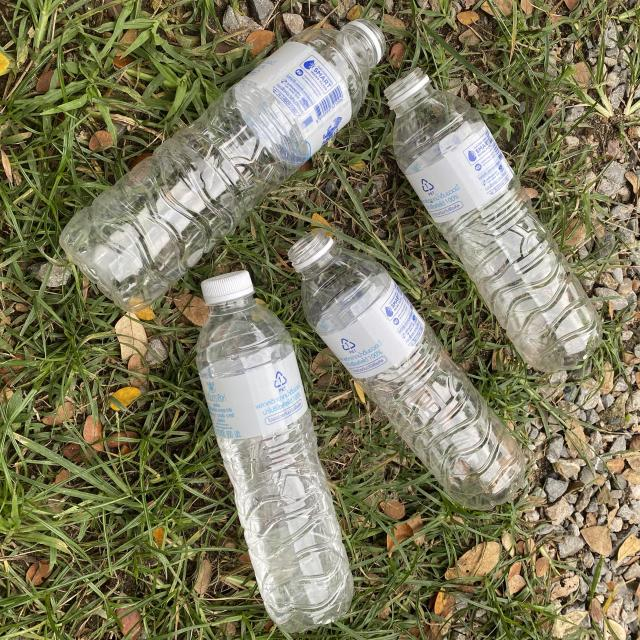plastik: (60, 20, 385, 312), (289, 229, 525, 510), (385, 70, 601, 371), (196, 271, 354, 632)
